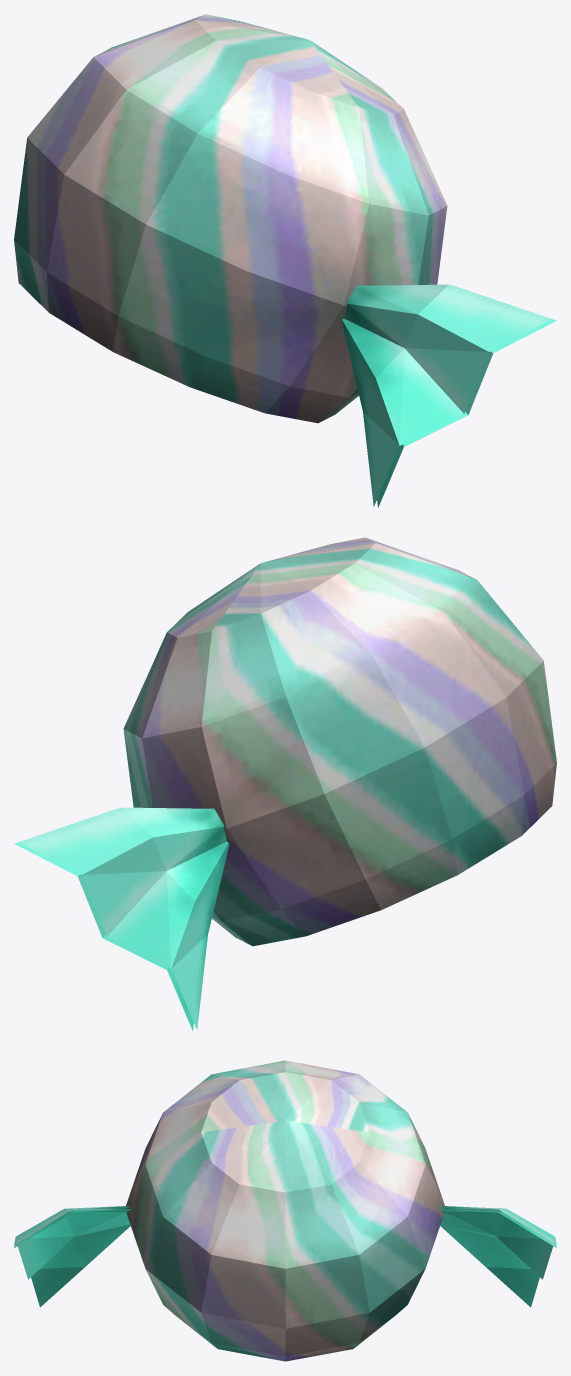
Rendered from Wolf_candyHat.obj.
3 renders of one model, top to bottom at view 1: azimuth 30°, elevation 25°; view 2: azimuth 150°, elevation 25°; view 3: azimuth 270°, elevation 25°, orthographic. The views are drawn at different scales.
Parts seen in each view (by area): view 1: Wolf_candyHat_tri; view 2: Wolf_candyHat_tri; view 3: Wolf_candyHat_tri.
Boxes of the visible parts, bbox=[...] form: Wolf_candyHat_tri: bbox=[14, 14, 556, 507]; Wolf_candyHat_tri: bbox=[14, 537, 556, 1030]; Wolf_candyHat_tri: bbox=[14, 1060, 556, 1361].
Size of the model in its own units: 0.3839 by 0.3645 by 0.6934.
1 material, 1 textured.
